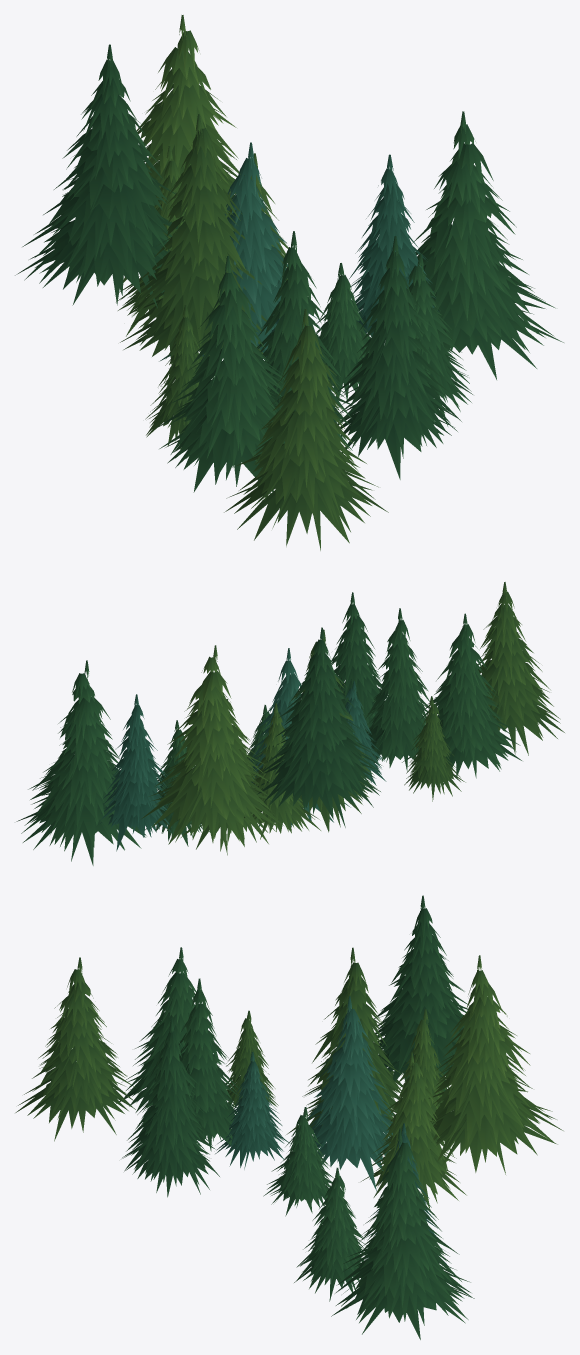
The model's file is pine_25.glb.
3 renders of one model, top to bottom at view 1: azimuth 30°, elevation 25°; view 2: azimuth 150°, elevation 25°; view 3: azimuth 270°, elevation 25°, orthographic. The views are drawn at different scales.
Visible parts, largest first — view 1: pine_25; view 2: pine_25; view 3: pine_25.
Part boxes in pixels (left/top/right/bottom): pine_25: left=15, top=15, right=563, bottom=550; pine_25: left=16, top=582, right=564, bottom=865; pine_25: left=15, top=895, right=563, bottom=1339.
Size of the model in its own units: 30.94 by 21.43 by 36.43.
1 material, 1 textured.
